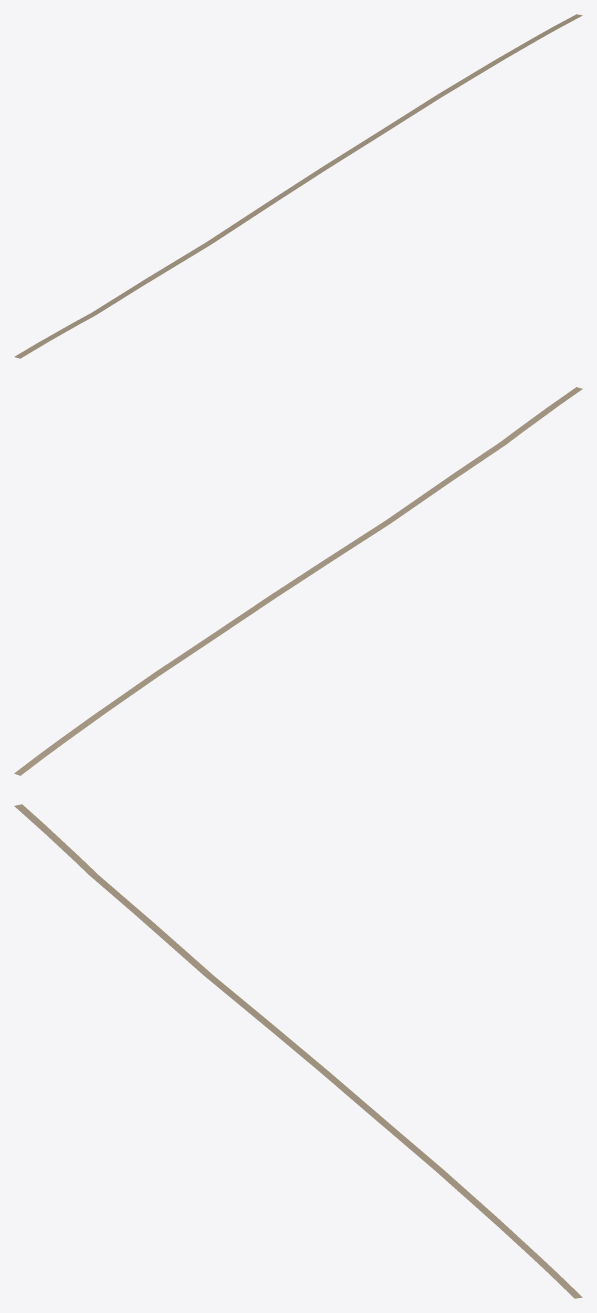
Rendered from farm_-13_-11_track.glb.
3 views of the same model, one above another, from view 1: azimuth 30°, elevation 25°; view 2: azimuth 210°, elevation 25°; view 3: azimuth 270°, elevation 25° (orthographic). The views are drawn at different scales.
Visible parts, largest first — view 1: geometry_0; view 2: geometry_0; view 3: geometry_0.
Boxes of the visible parts, x1=… form: geometry_0: x1=14, y1=14, x2=582, y2=358; geometry_0: x1=14, y1=387, x2=582, y2=775; geometry_0: x1=14, y1=804, x2=582, y2=1298.
Bounding box in the file's own units: 391 × 10.41 × 201.
